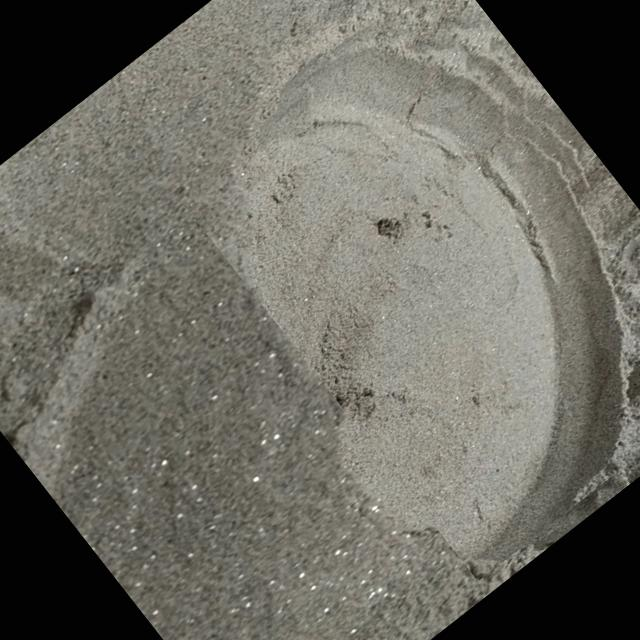C40: (246, 0, 626, 561)
